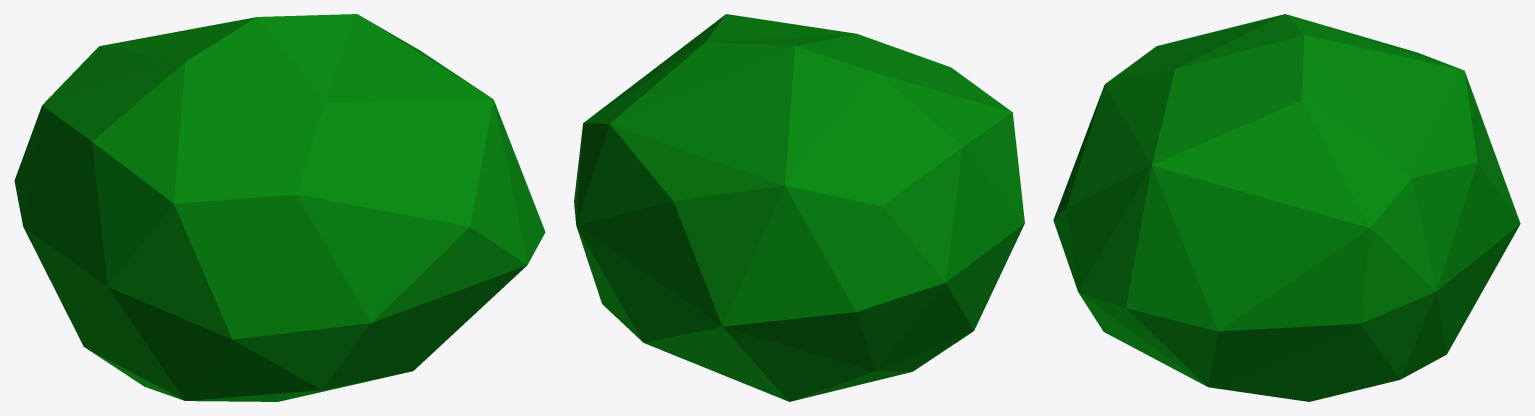
Rendered from LowPoly_Foliage2.fbx.
The picture shows the model from 3 angles, left to right: view 1: azimuth 30°, elevation 25°; view 2: azimuth 150°, elevation 25°; view 3: azimuth 270°, elevation 25°; orthographic projection. The views are drawn at different scales.
Visible parts, largest first — view 1: Icosphere; view 2: Icosphere; view 3: Icosphere.
Boxes of the visible parts, box(x1,y1,x2,y2) form: Icosphere: box(14, 14, 545, 401); Icosphere: box(574, 14, 1024, 401); Icosphere: box(1053, 14, 1520, 401).
Bounding box in the file's own units: 295 × 227 × 296.
